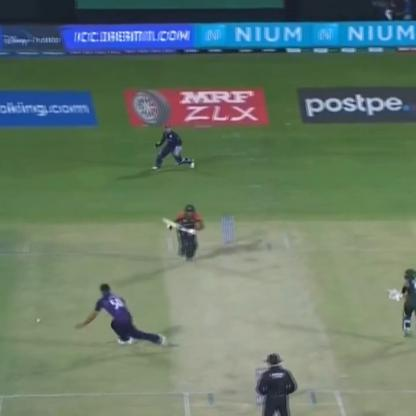ball: (31, 316, 44, 329)
pitch: (150, 218, 354, 415)
